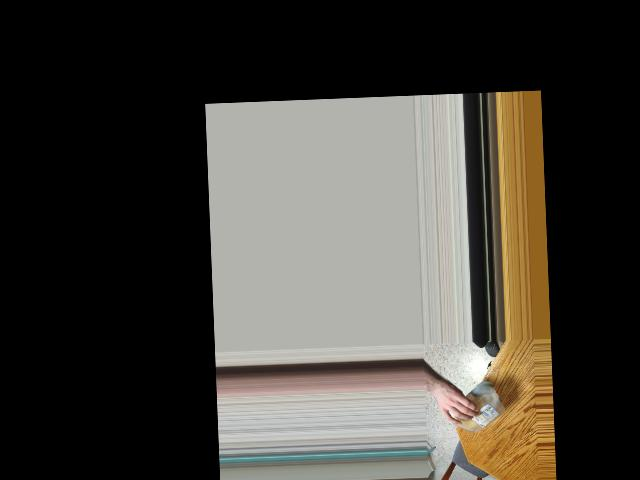cheese: (443, 381, 507, 434)
